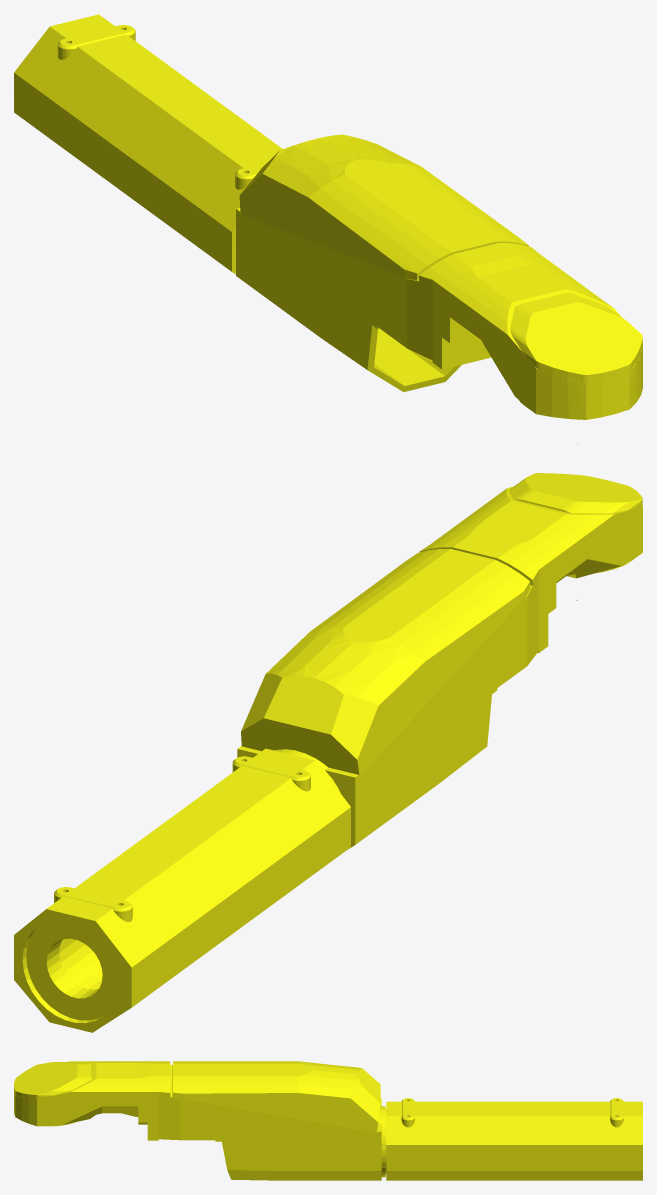
3 views of the same model, one above another, from view 1: azimuth 30°, elevation 25°; view 2: azimuth 150°, elevation 25°; view 3: azimuth 270°, elevation 25° (orthographic). The views are drawn at different scales.
Parts seen in each view (by area): view 1: node; view 2: node; view 3: node.
Boxes of the visible parts, x1=… form: node: x1=14, y1=14, x2=642, y2=444; node: x1=14, y1=473, x2=642, y2=1032; node: x1=14, y1=1061, x2=642, y2=1180.
Bounding box in the file's own units: 110 × 160 × 867.
